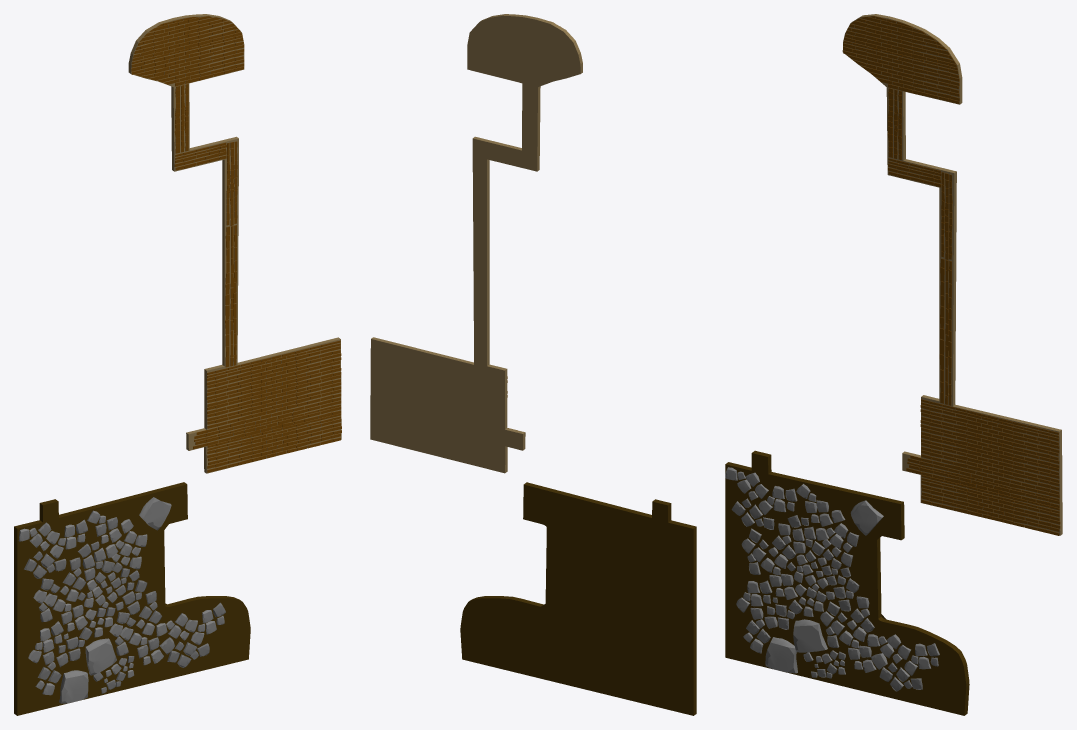
The model's file is Escenario1.fbx.
The picture shows the model from 3 angles, left to right: view 1: azimuth 30°, elevation 25°; view 2: azimuth 150°, elevation 25°; view 3: azimuth 330°, elevation 25°; orthographic projection. The views are drawn at different scales.
Parts seen in each view (by area): view 1: Cube.196, Escenario.001, Escenario.002, Escenario.003; view 2: Escenario.001, Escenario.003; view 3: Cube.196, Escenario.001, Escenario.002, Escenario.003.
Part boxes in pixels (left/top/right/bottom): Cube.196: left=131, top=16, right=341, bottom=472; Escenario.001: left=14, top=482, right=250, bottom=715; Escenario.002: left=18, top=497, right=225, bottom=703; Escenario.003: left=128, top=14, right=341, bottom=473; Escenario.001: left=460, top=482, right=696, bottom=715; Escenario.003: left=370, top=14, right=582, bottom=473; Cube.196: left=843, top=16, right=1060, bottom=535; Escenario.001: left=725, top=450, right=969, bottom=715; Escenario.002: left=725, top=467, right=939, bottom=691; Escenario.003: left=842, top=14, right=1062, bottom=535.
Bounding box in the file's own units: 1105 × 2141 × 38.18.
